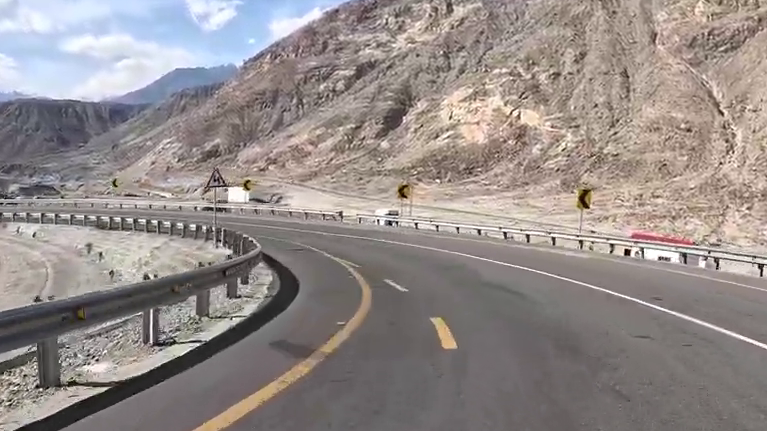right: (243, 197, 643, 371)
